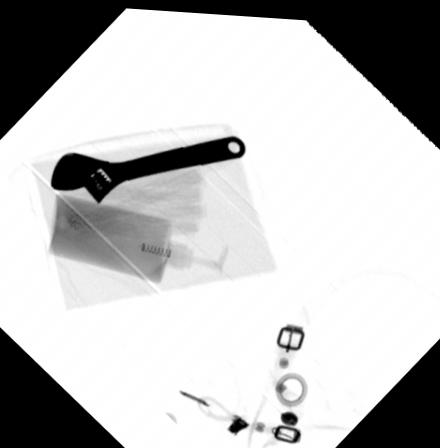Wrench: (47, 131, 249, 206)
